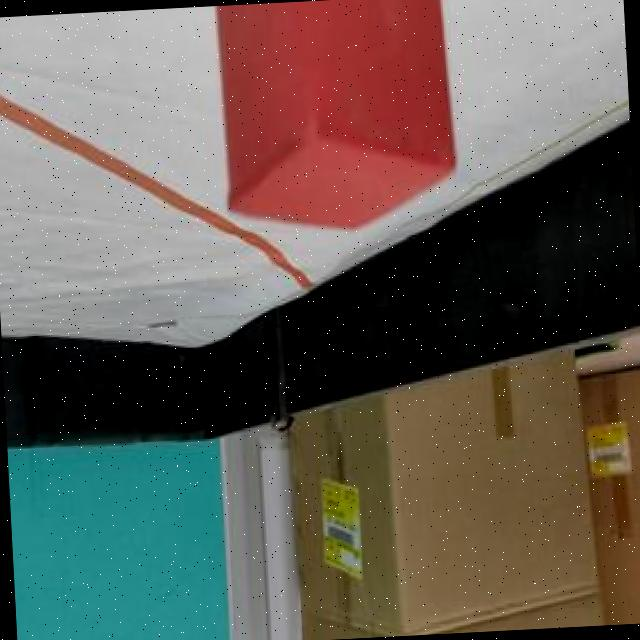redbox: (211, 0, 460, 239)
